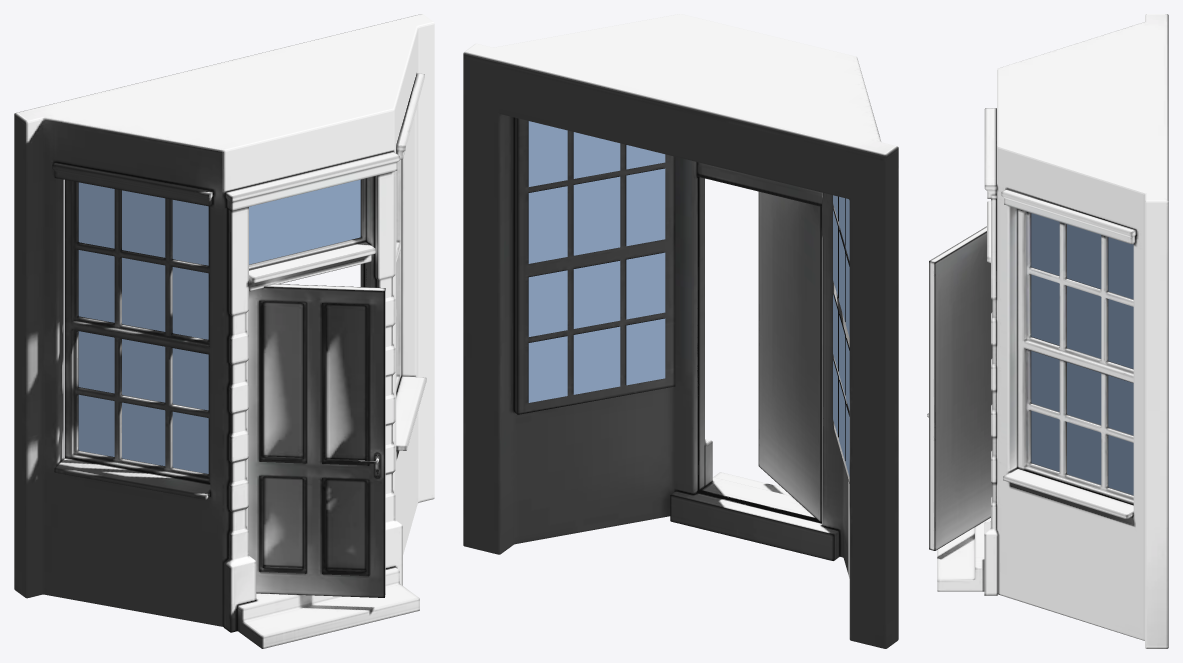
3 renders of one model, left to right at view 1: azimuth 30°, elevation 25°; view 2: azimuth 150°, elevation 25°; view 3: azimuth 270°, elevation 25°, orthographic. The views are drawn at different scales.
Parts seen in each view (by area): view 1: doorway, door, glass; view 2: doorway, glass, door; view 3: doorway, glass, door.
Boxes of the visible parts, left/top/right/bottom form: doorway: left=14, top=14, right=434, bottom=648; door: left=247, top=284, right=385, bottom=597; glass: left=78, top=179, right=360, bottom=473; doorway: left=463, top=14, right=898, bottom=648; glass: left=528, top=121, right=849, bottom=476; door: left=758, top=191, right=821, bottom=522; doorway: left=937, top=14, right=1168, bottom=648; glass: left=1031, top=213, right=1133, bottom=495; door: left=929, top=226, right=992, bottom=550.
Size of the model in its own units: 2.84 by 3.17 by 1.55.
2 materials, 1 textured.
